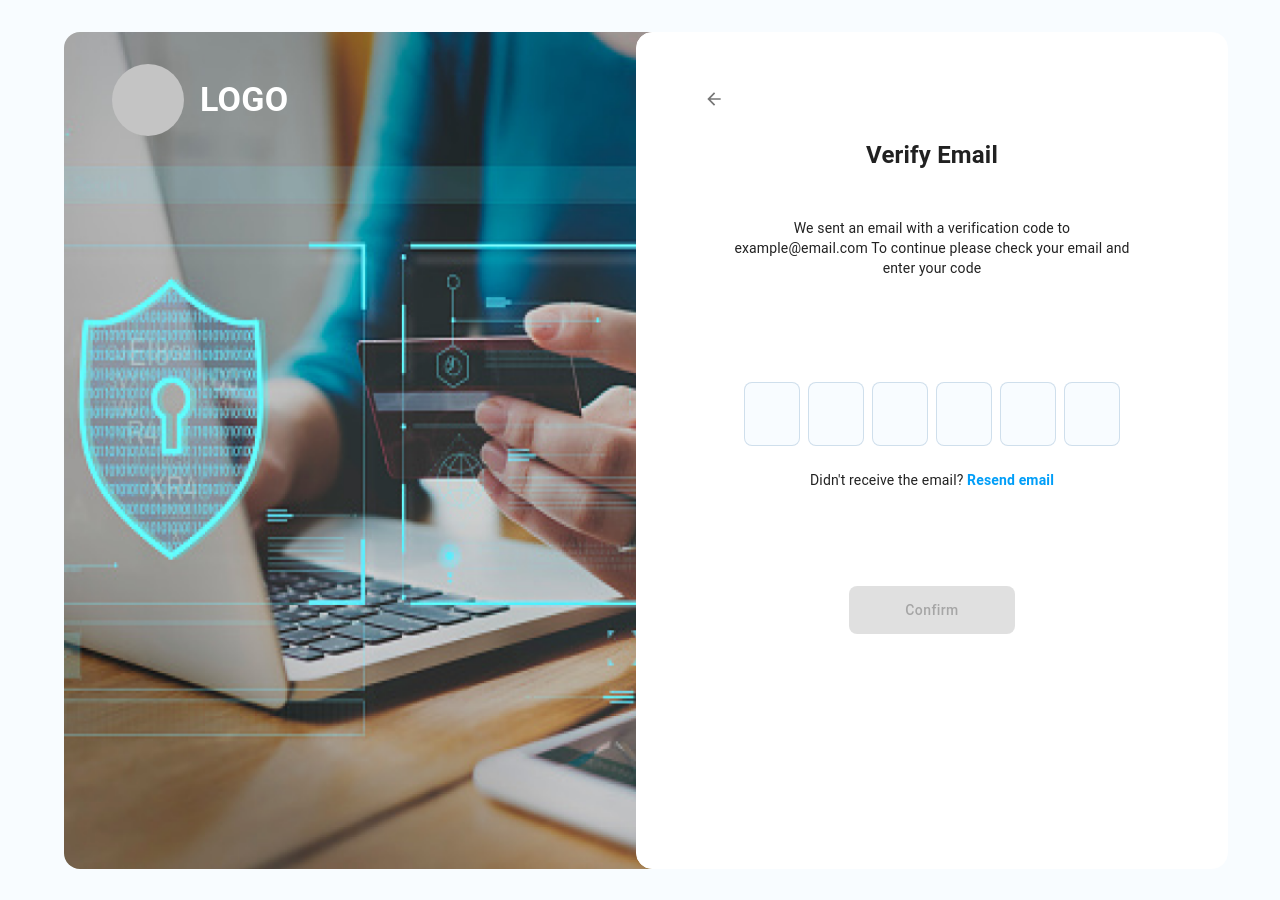
EmailVerification Page › should limit input to 0-9
This screenshot has width=1280, height=900.
Type "10" into the number field with test id "six-digit-input-0" at (772, 414), box left=745, top=381, right=799, bottom=448
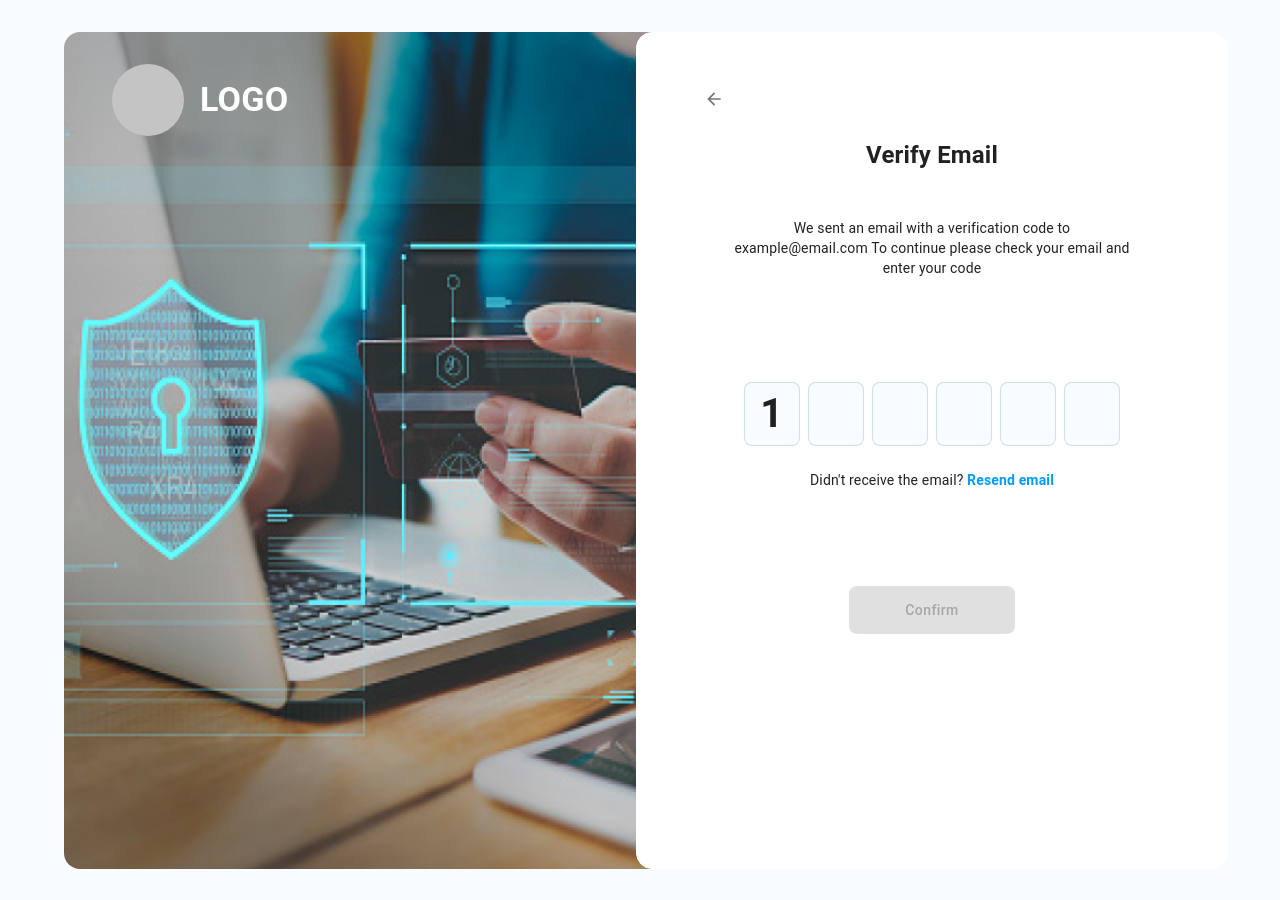
Check: the number field with test id "six-digit-input-0" holds "1", box left=745, top=381, right=799, bottom=448
